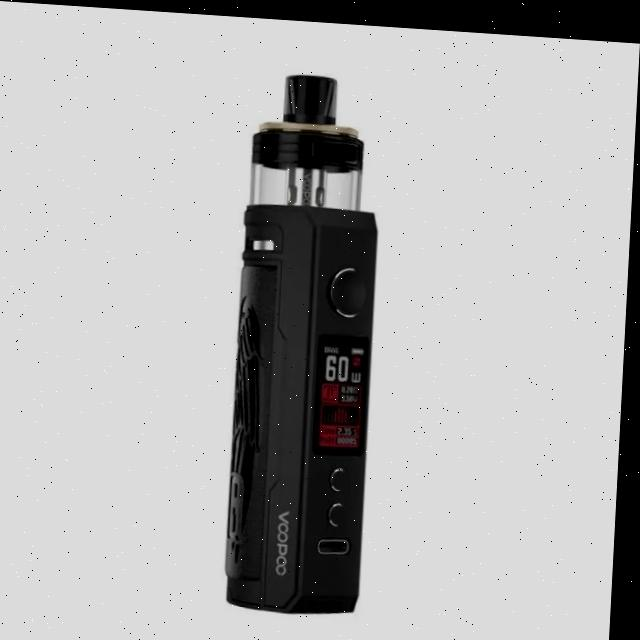vape: (228, 67, 387, 613)
